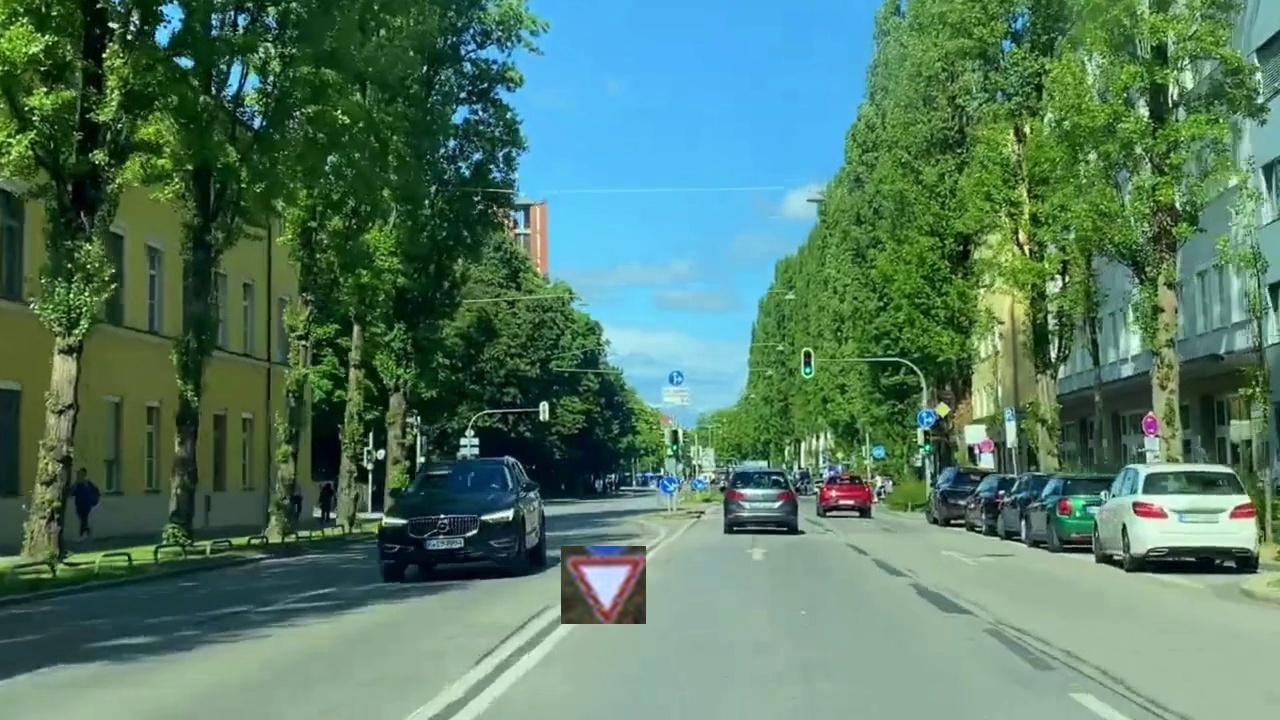Yield: (561, 546, 646, 624)
